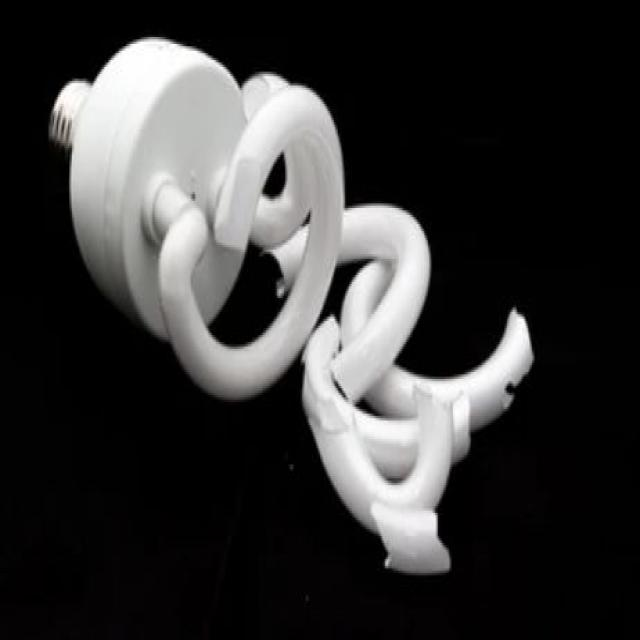electronic: (47, 32, 535, 576), (47, 32, 345, 402), (299, 201, 535, 575)
